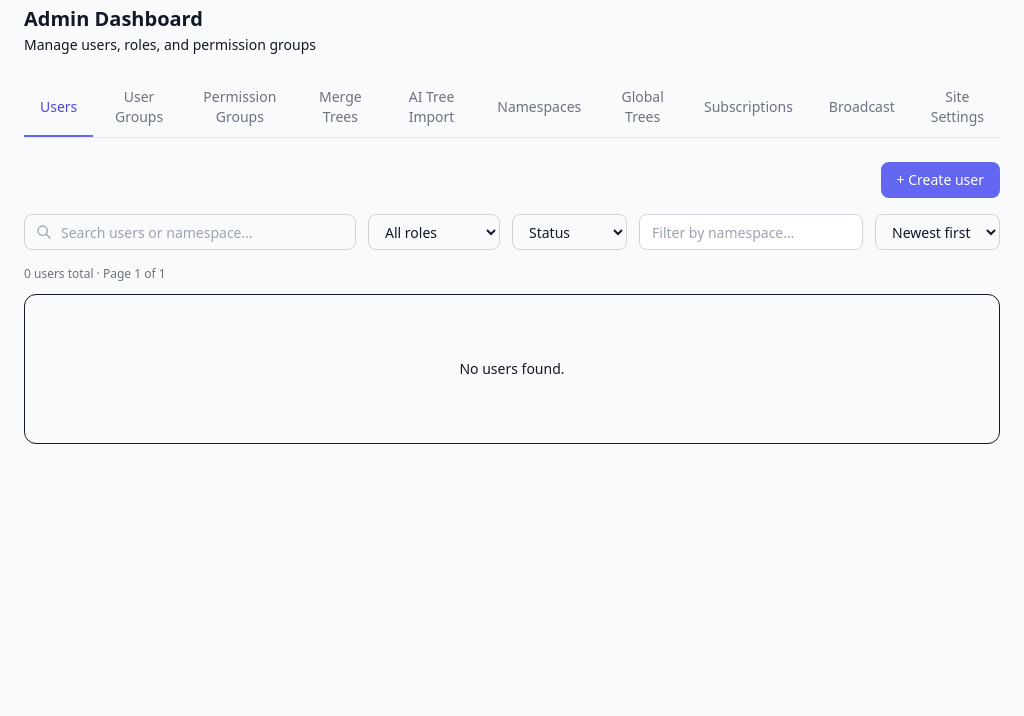
Test: AdminPage — Broadcast email (async queueing) › shows a "queued" confirmation with the recipient count, not final sent/failed counts
Click the button "Broadcast" at (862,108), box [813,79,911,137]
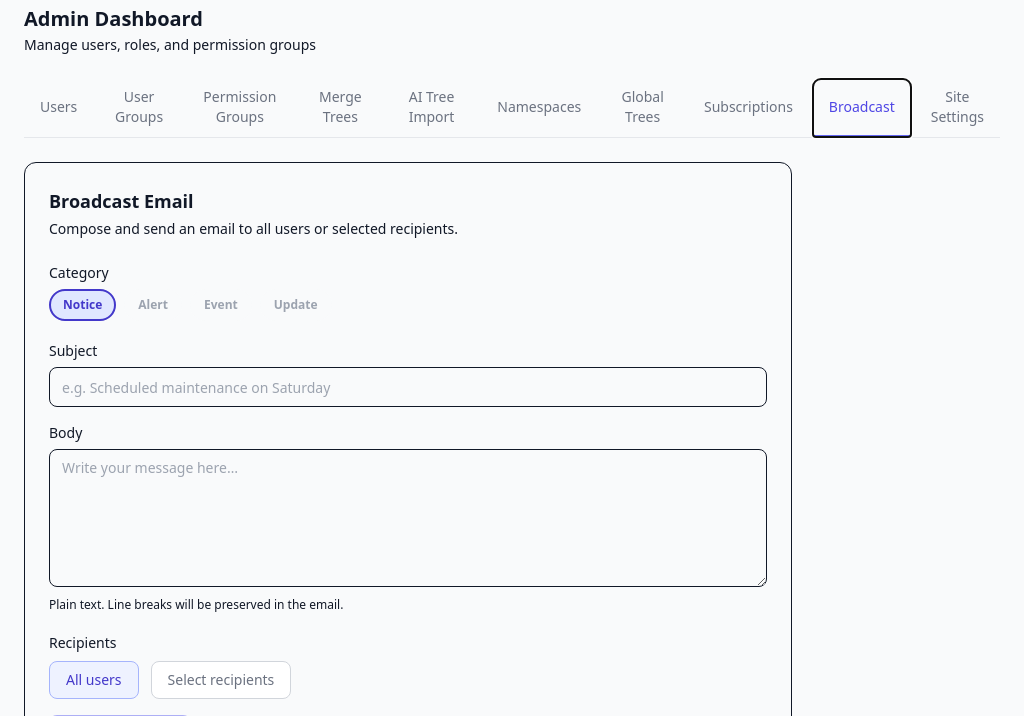
Type "Hello" into the field with placeholder "e.g. Scheduled maintenance on Saturday" at (408,387), box [49,367,767,407]
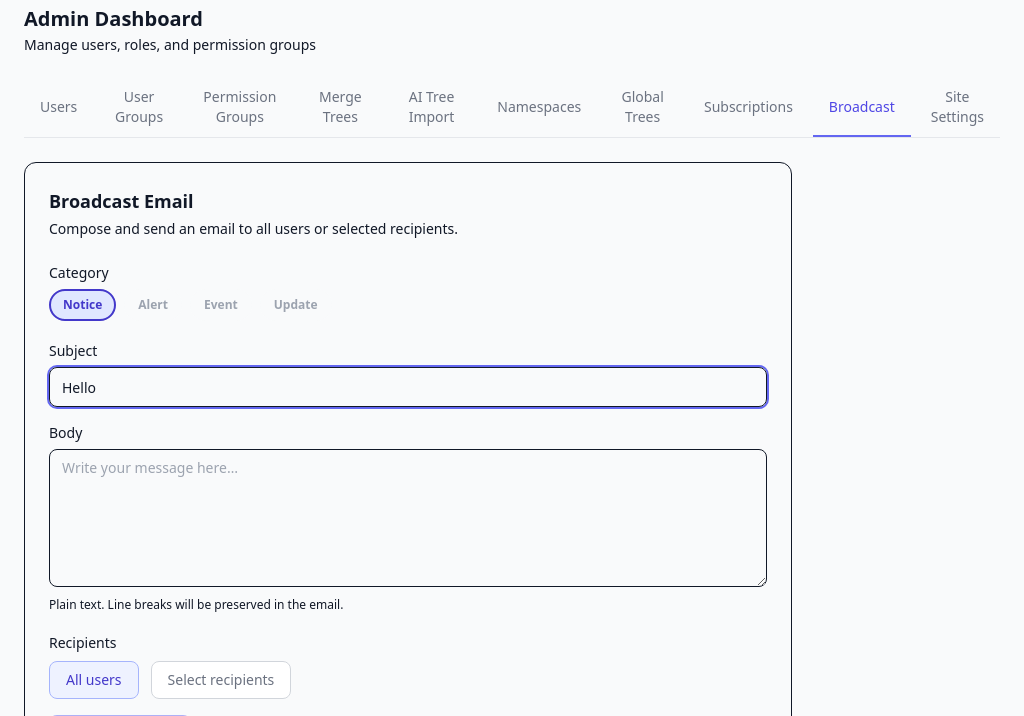
Type "World" into the text box with placeholder "Write your message here…" at (408,518), box [49,449,767,587]
(page scrolled)
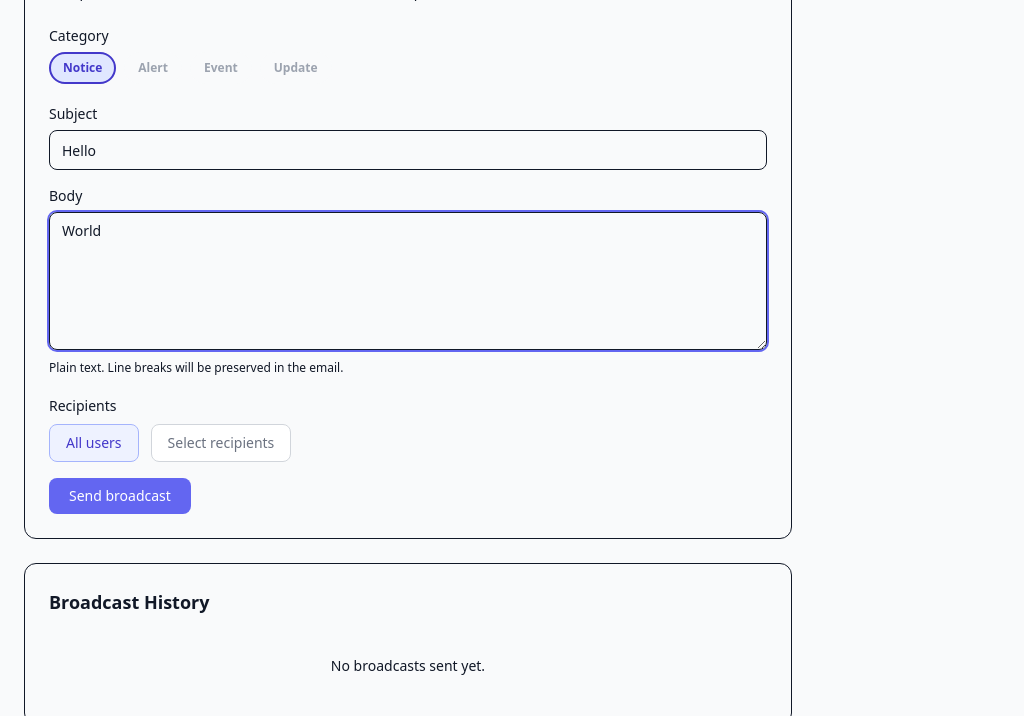
Click the button "Send broadcast" at (120,496), box [49,478,191,514]
(page scrolled)
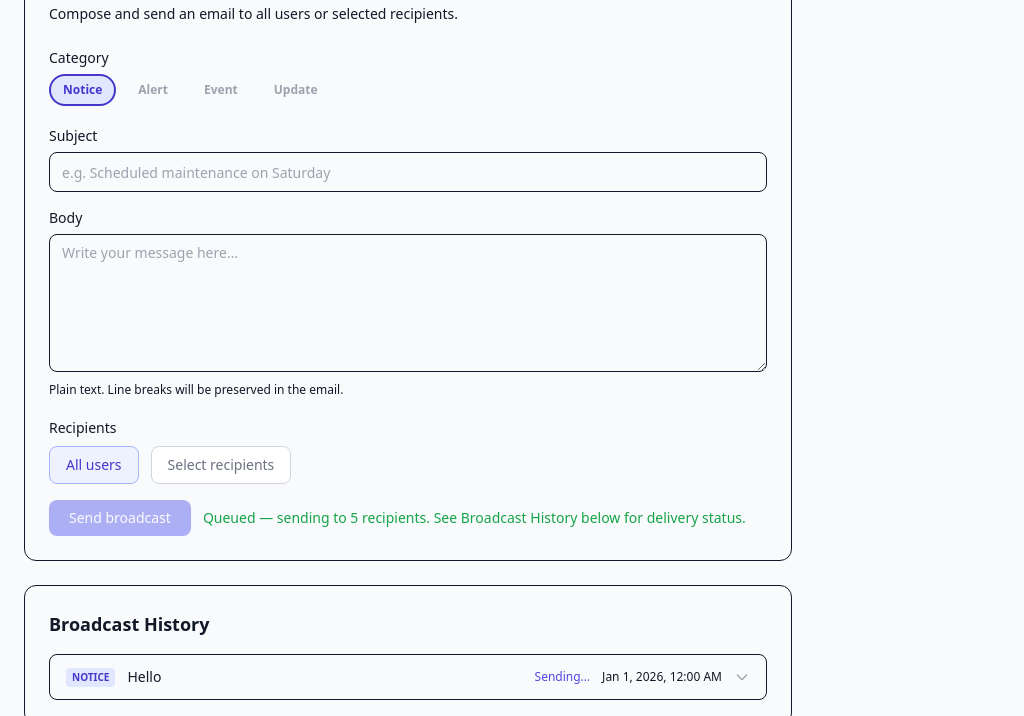
Expected: the text "Queued — sending to 5 recipients" is shown, [203,508,746,527]
